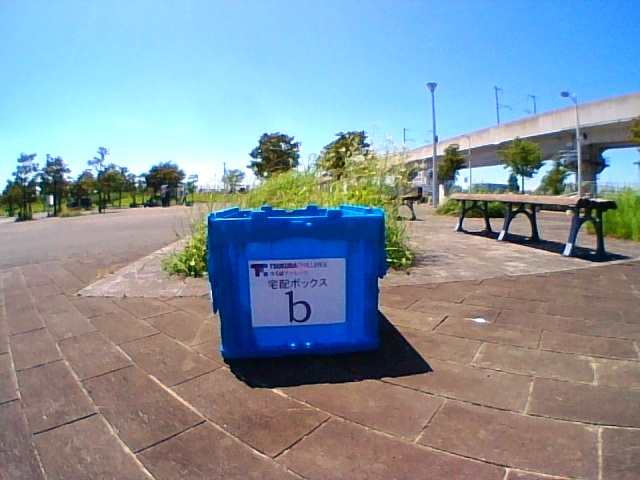blue_box: (222, 210, 374, 348)
tag_b: (254, 263, 343, 323)
